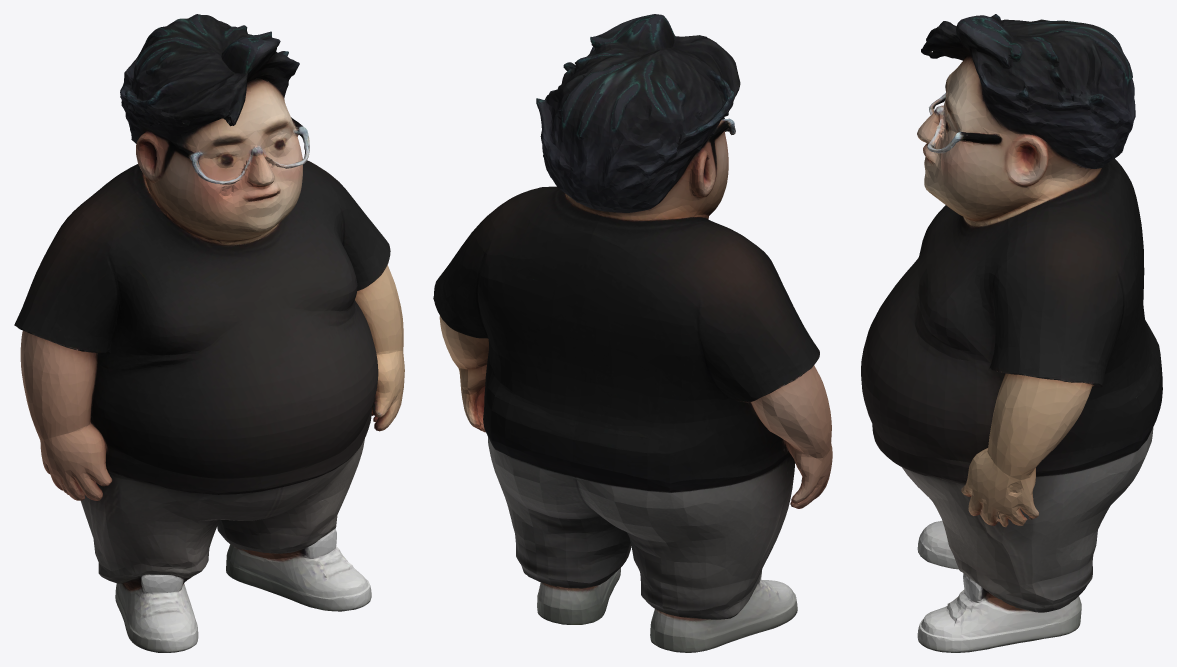
Rendered from char-00-0.4.15.glb.
3 views of the same model, side by side, from view 1: azimuth 30°, elevation 25°; view 2: azimuth 150°, elevation 25°; view 3: azimuth 270°, elevation 25° (orthographic). The views are drawn at different scales.
Parts seen in each view (by area): view 1: geometry_0; view 2: geometry_0; view 3: geometry_0.
Part boxes in pixels (left/top/right/bottom): geometry_0: left=14, top=14, right=404, bottom=652; geometry_0: left=433, top=14, right=832, bottom=652; geometry_0: left=861, top=14, right=1162, bottom=652.
Size of the model in its own units: 1.21 by 1.8 by 0.8435.
Materials: 1 (1 with a texture image).
